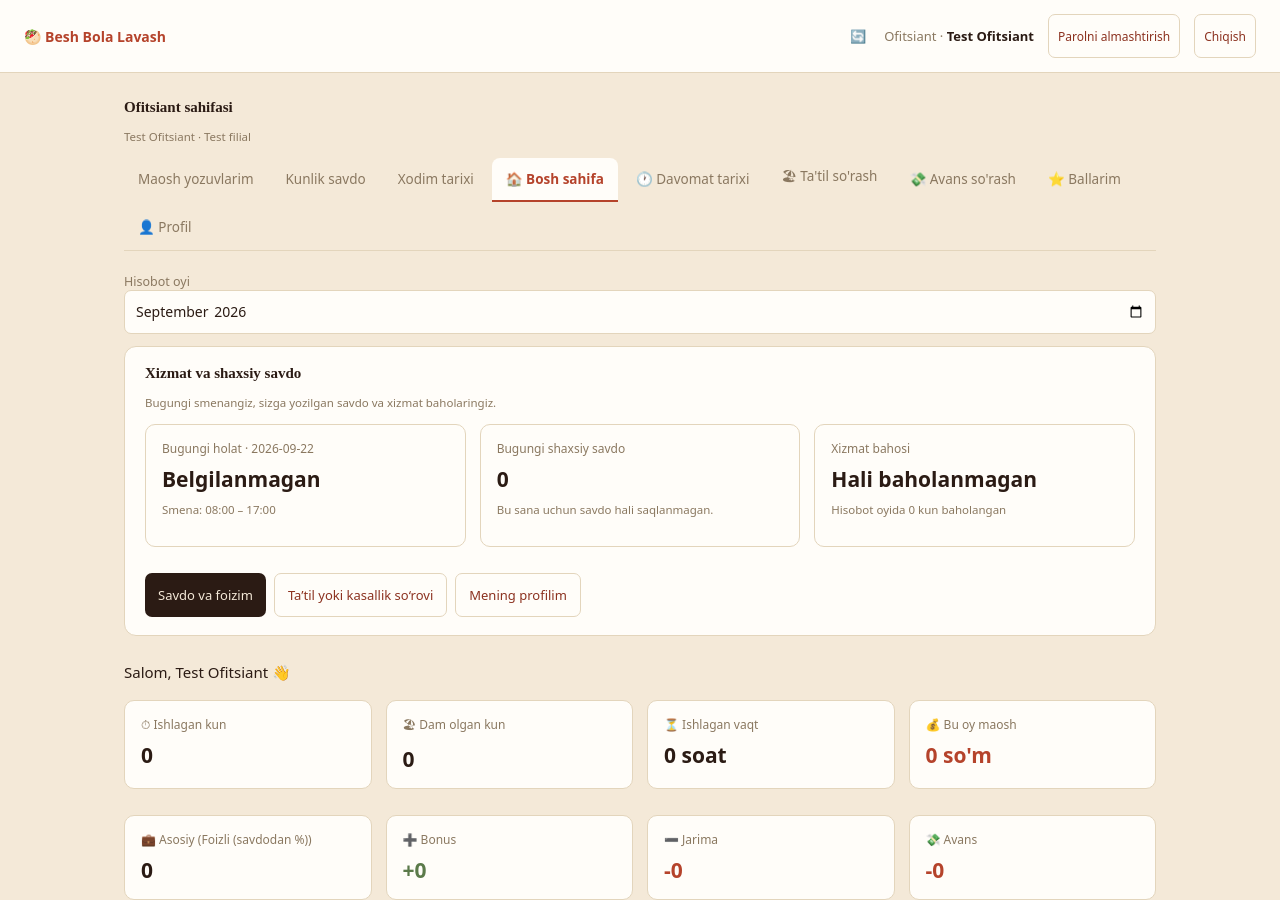
changes the password, replaces the session token and keeps the employee page
Click the button "Parolni almashtirish" at (1114, 36), box [1048,14,1180,58]
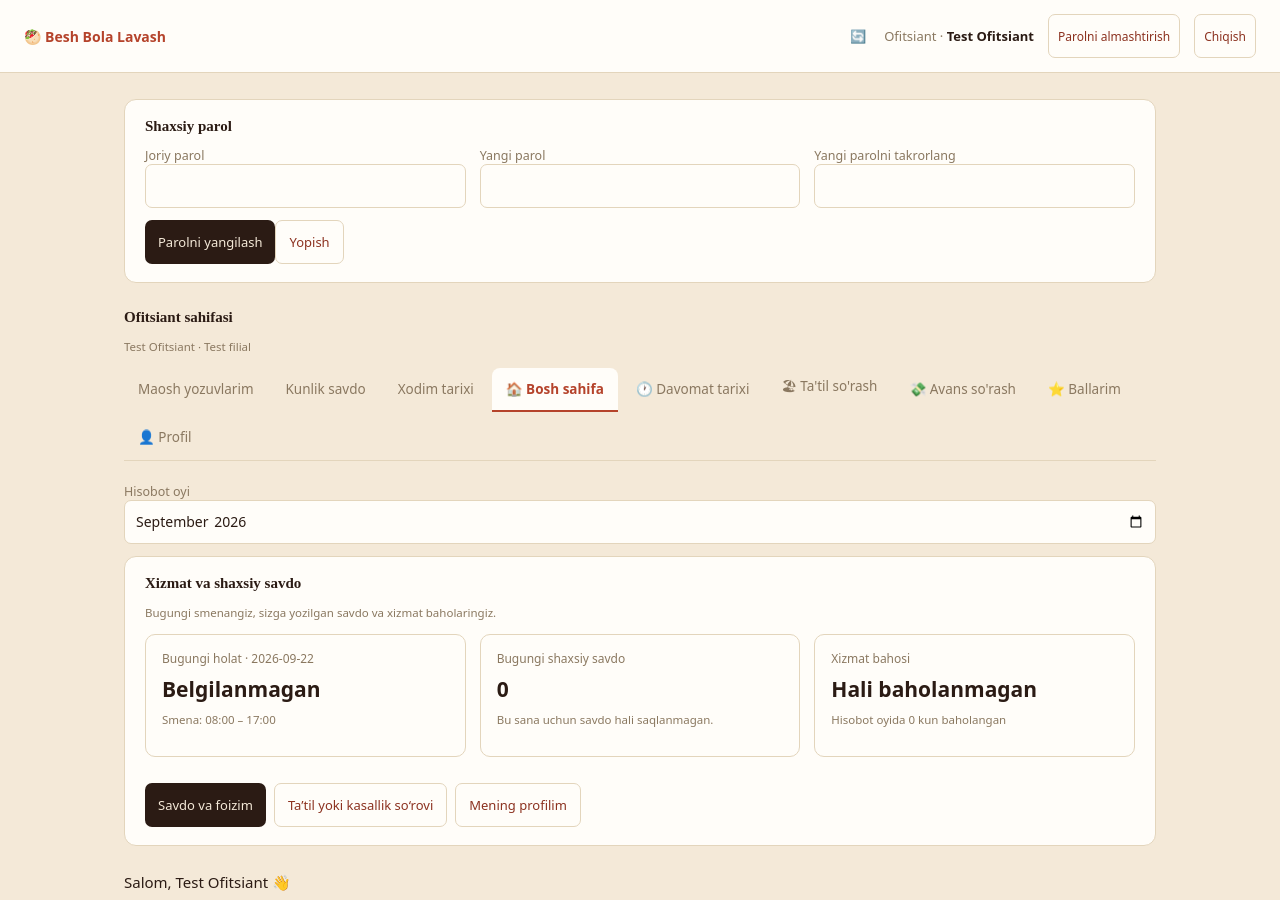
Type "old-password" into the password field labelled "Joriy parol" at (305, 186), box [145,164,466,208]
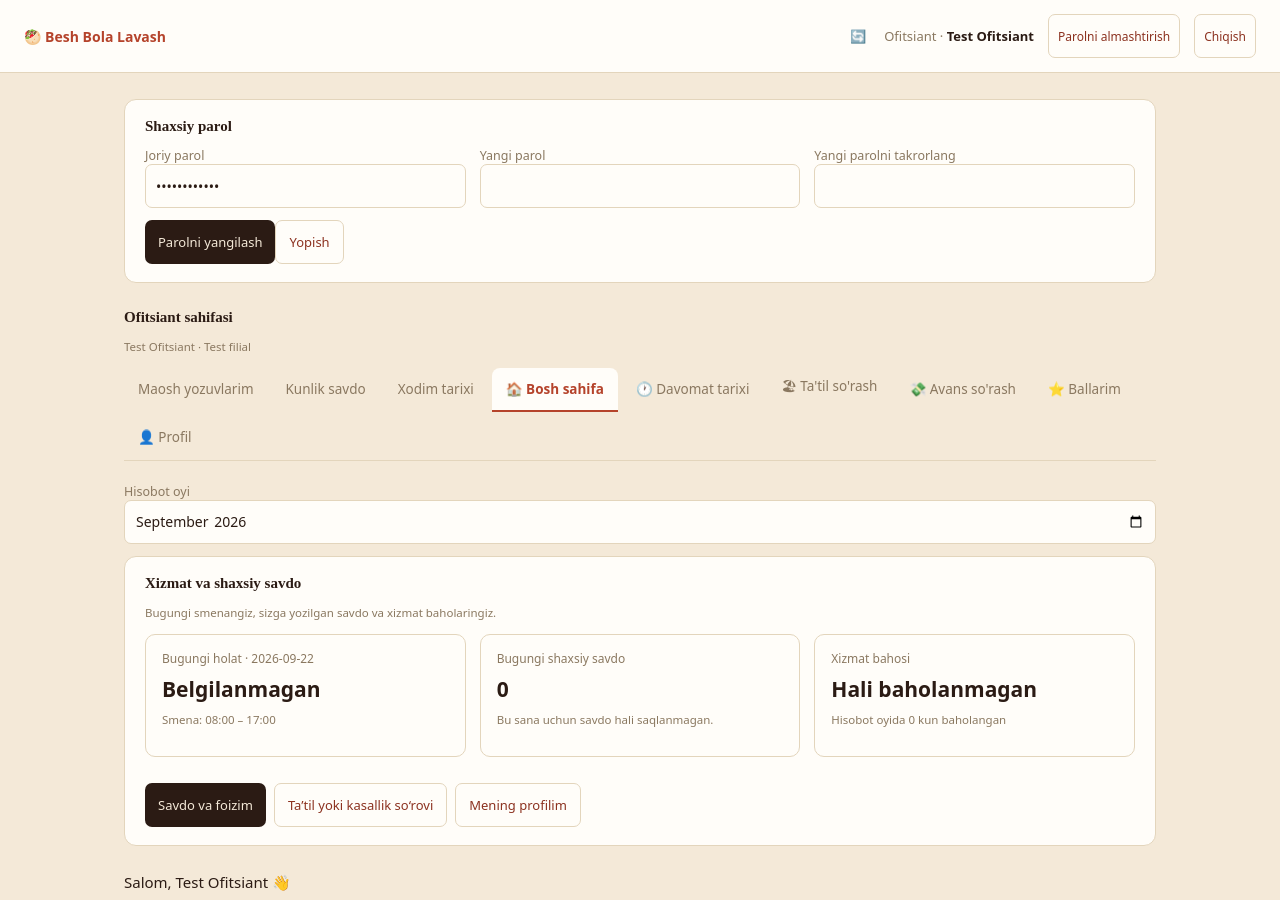
Type "new-password" into the password field labelled "Yangi parol" at (640, 186), box [480,164,800,208]
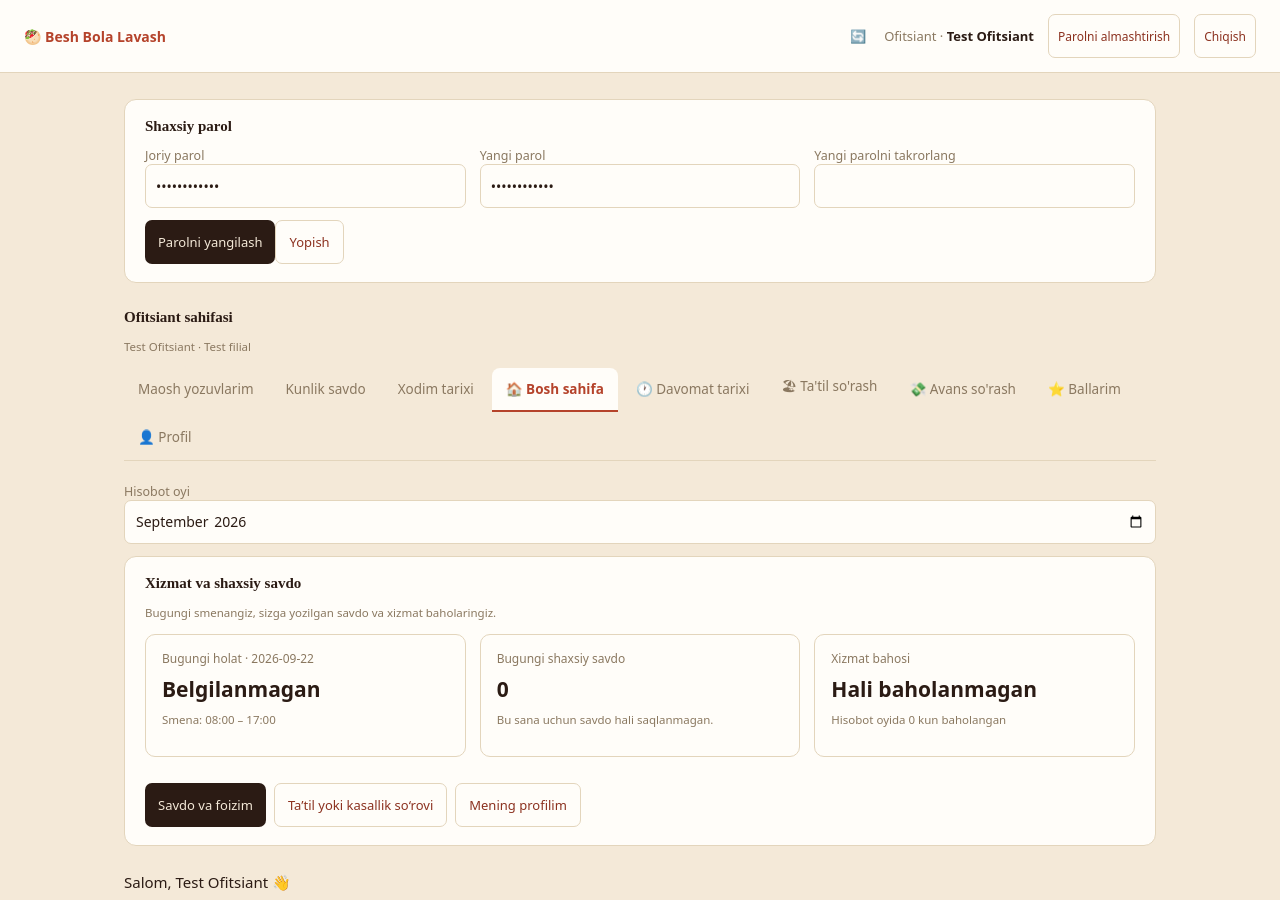
Type "new-password" into the password field labelled "Yangi parolni takrorlang" at (975, 186), box [814,164,1135,208]
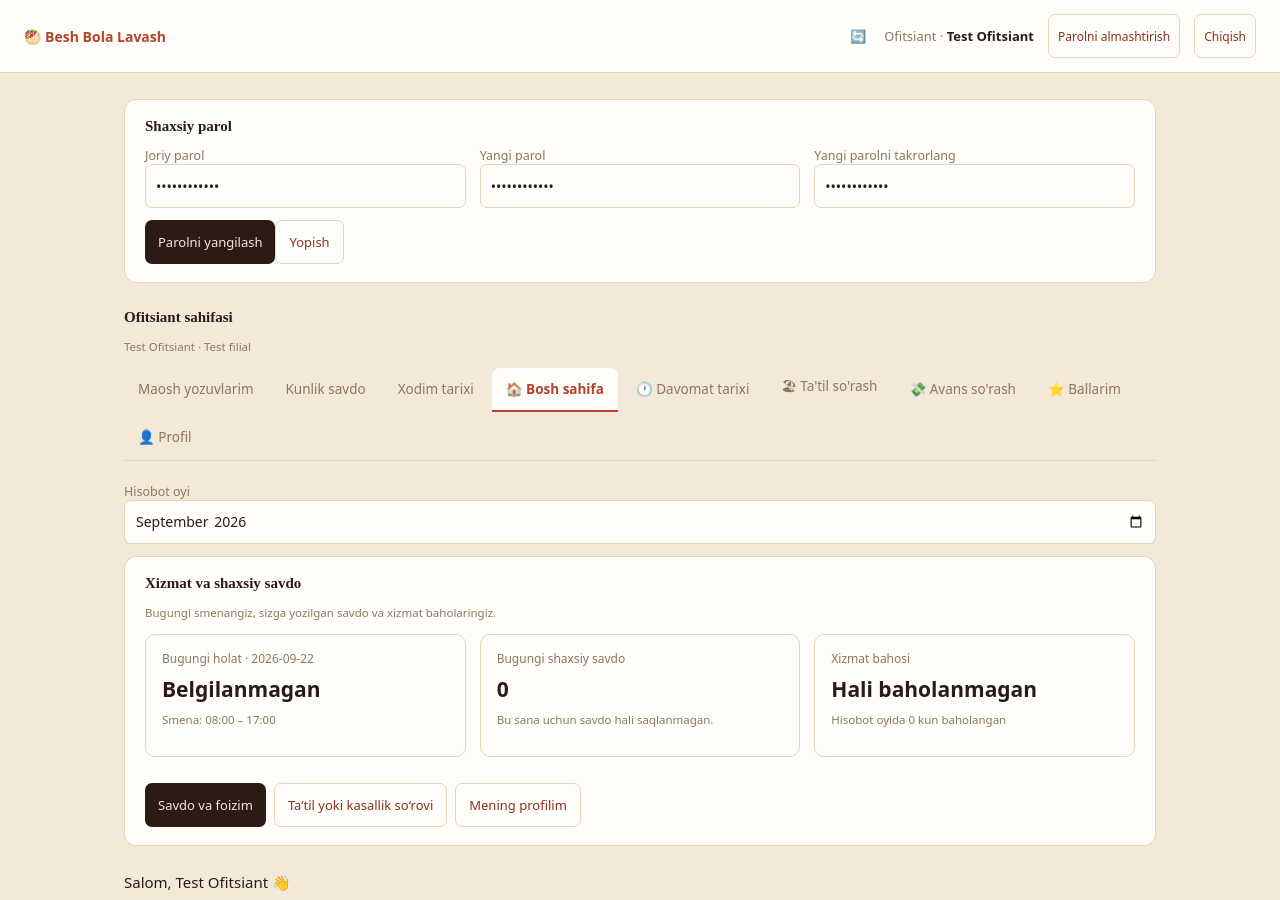
Click the button "Parolni yangilash" at (210, 242), box [145,220,276,264]
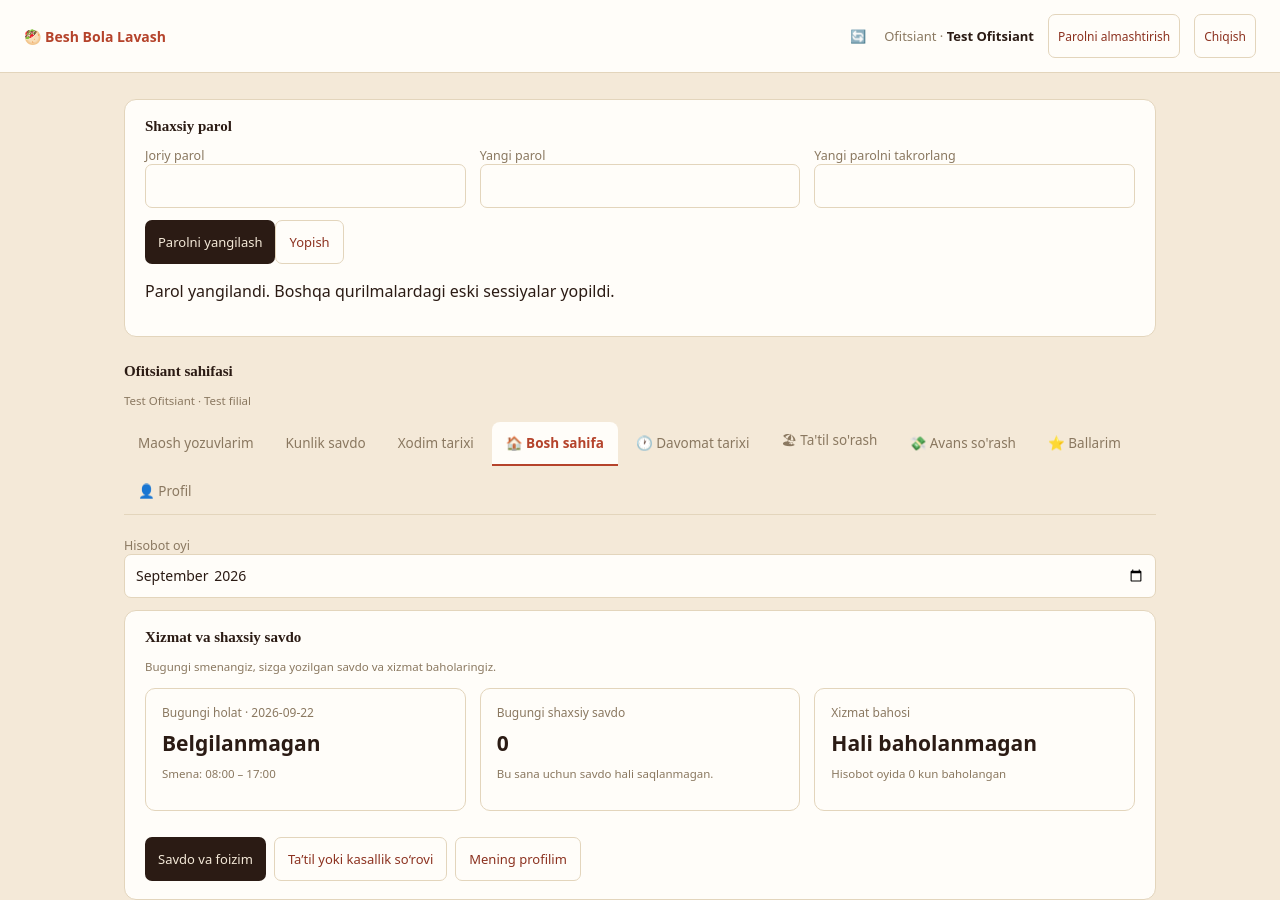
Check: the text "Parol yangilandi. Boshqa qurilmalardagi eski sessiyalar yopildi." is shown, box [145,280,615,302]
